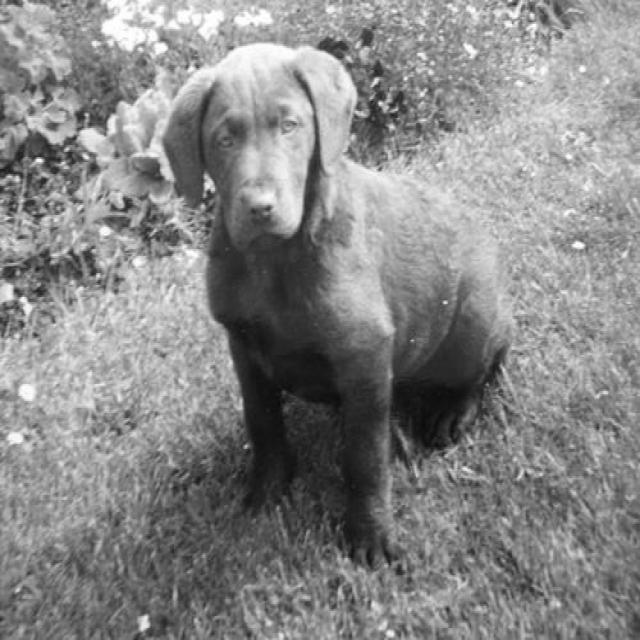sitting: (158, 31, 518, 576)
